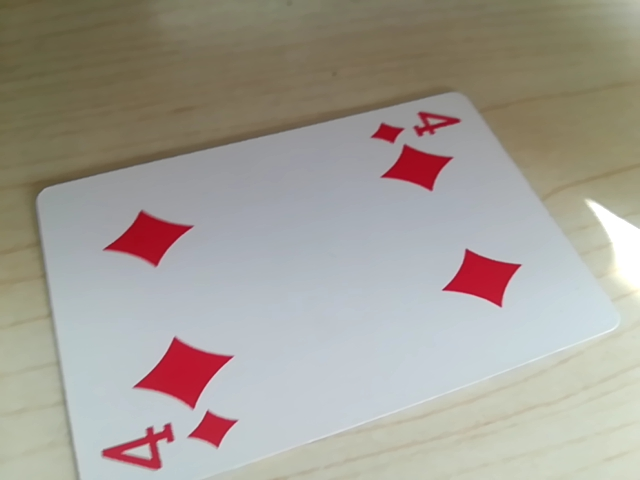fk 4: (96, 408, 239, 478), (367, 105, 467, 148)
